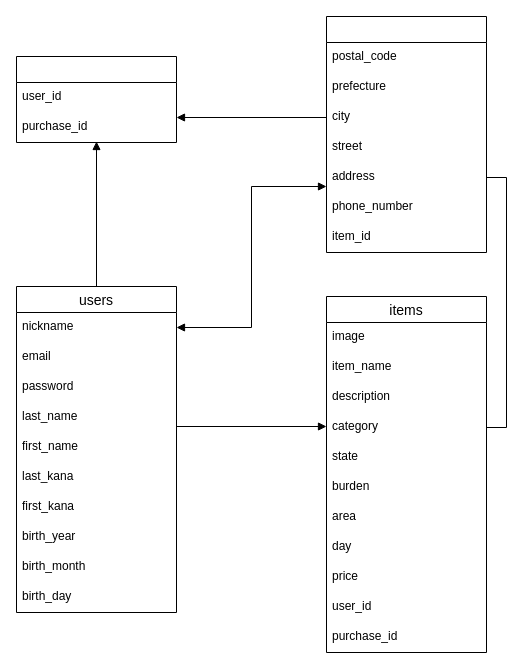
Image size: 523x669. Some labels were removed from this diagram. Each missing label, with the box of its shape:
purchases: (326, 16, 486, 252)
user_purchases: (16, 56, 176, 142)
